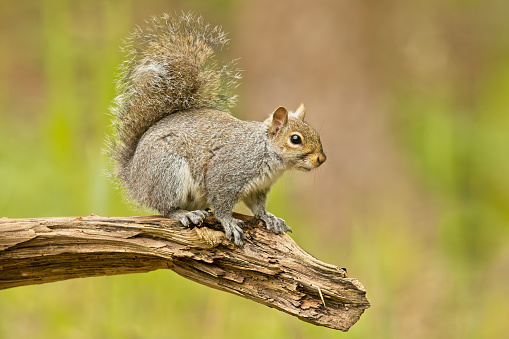squirrel: (120, 29, 329, 241)
